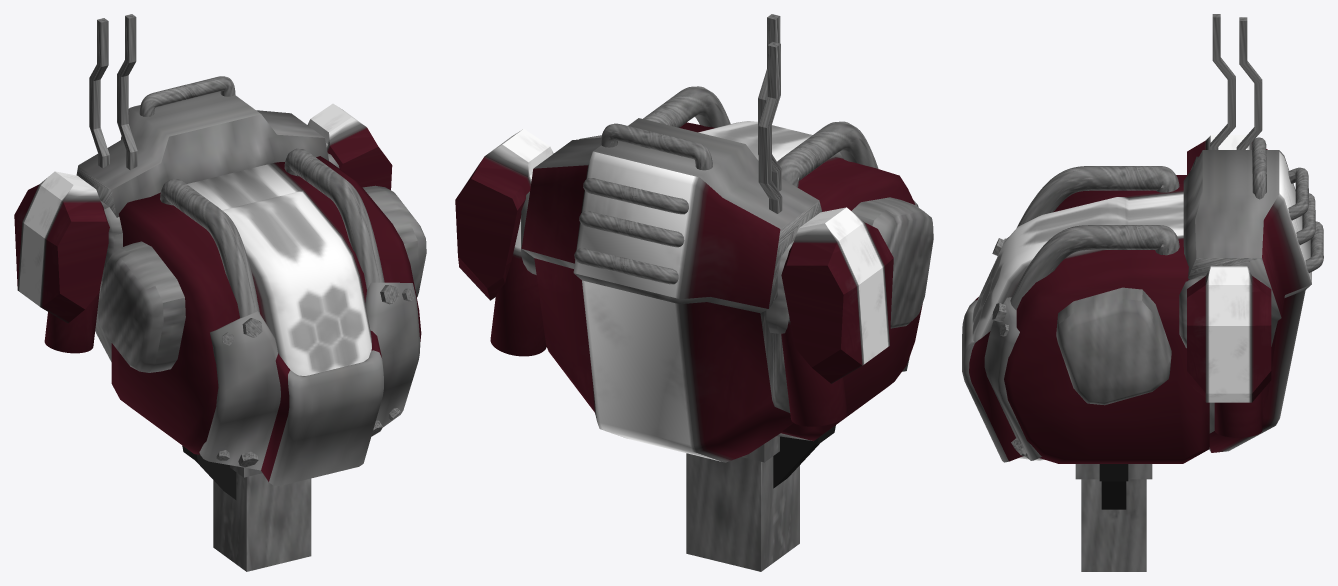
Rendered from Robot 8 chasis.fbx.
3 views of the same model, side by side, from view 1: azimuth 30°, elevation 25°; view 2: azimuth 150°, elevation 25°; view 3: azimuth 270°, elevation 25° (orthographic). The views are drawn at different scales.
Parts seen in each view (by area): view 1: Cube.019, Cylinder.004, Cube.002, Cylinder.003; view 2: Cube.019, Cylinder.004, Cylinder.003, Cube.002; view 3: Cube.019, Cylinder.003, Cube.002, Cube.003, Cylinder.004.
Part boxes in pixels (<box>): Cube.019: <box>76,14,426,485</box>; Cylinder.004: <box>14,171,109,353</box>; Cube.002: <box>182,445,311,571</box>; Cylinder.003: <box>307,103,392,189</box>; Cube.019: <box>521,14,933,462</box>; Cylinder.004: <box>781,207,893,426</box>; Cylinder.003: <box>455,129,553,356</box>; Cube.002: <box>686,425,835,571</box>; Cube.019: <box>962,14,1323,463</box>; Cylinder.003: <box>1187,266,1271,437</box>; Cube.002: <box>1081,464,1146,571</box>; Cube.003: <box>1075,464,1152,479</box>; Cylinder.004: <box>1187,135,1267,174</box>.
Size of the model in its own units: 394 by 558 by 364.
